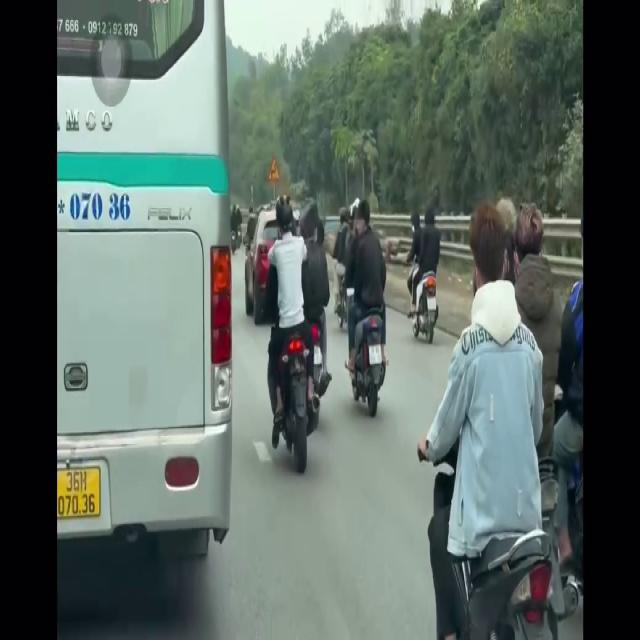helmet: (274, 191, 295, 247)
no_helmet: (468, 210, 507, 308)
